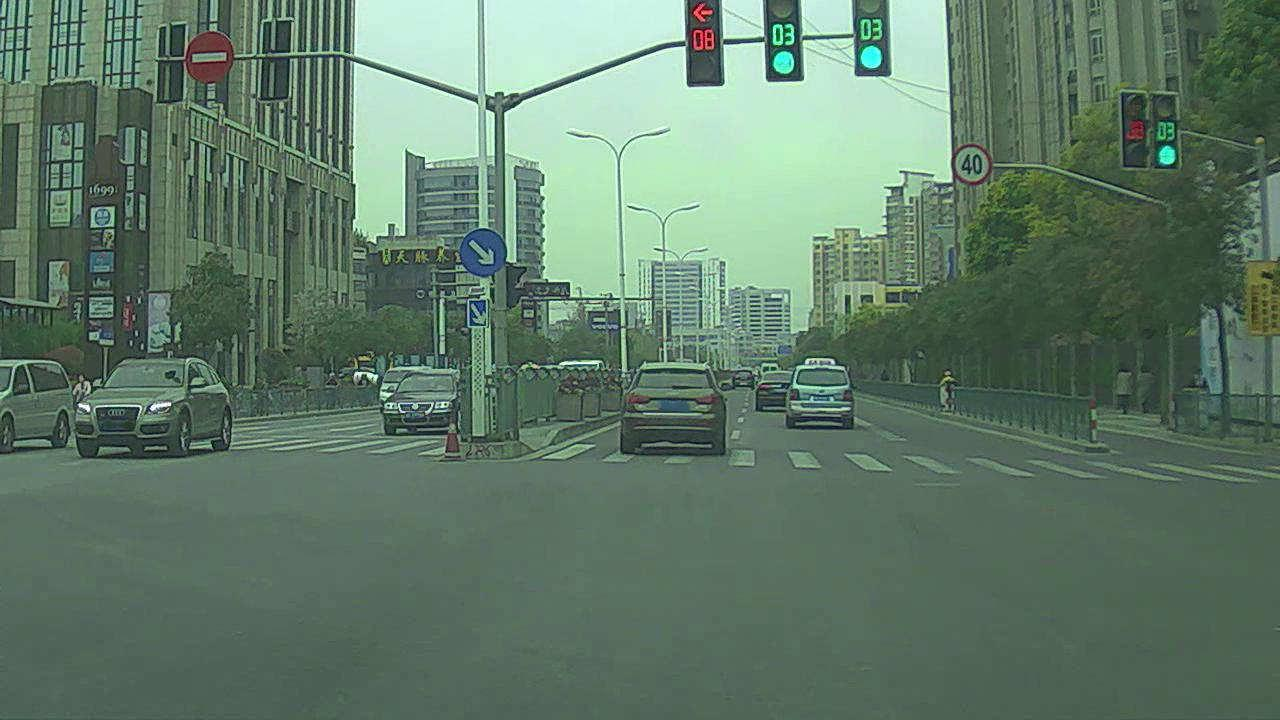traffic_light: (685, 4, 724, 89), (765, 2, 806, 81), (853, 3, 894, 76), (1120, 92, 1149, 166), (1154, 93, 1180, 165)
